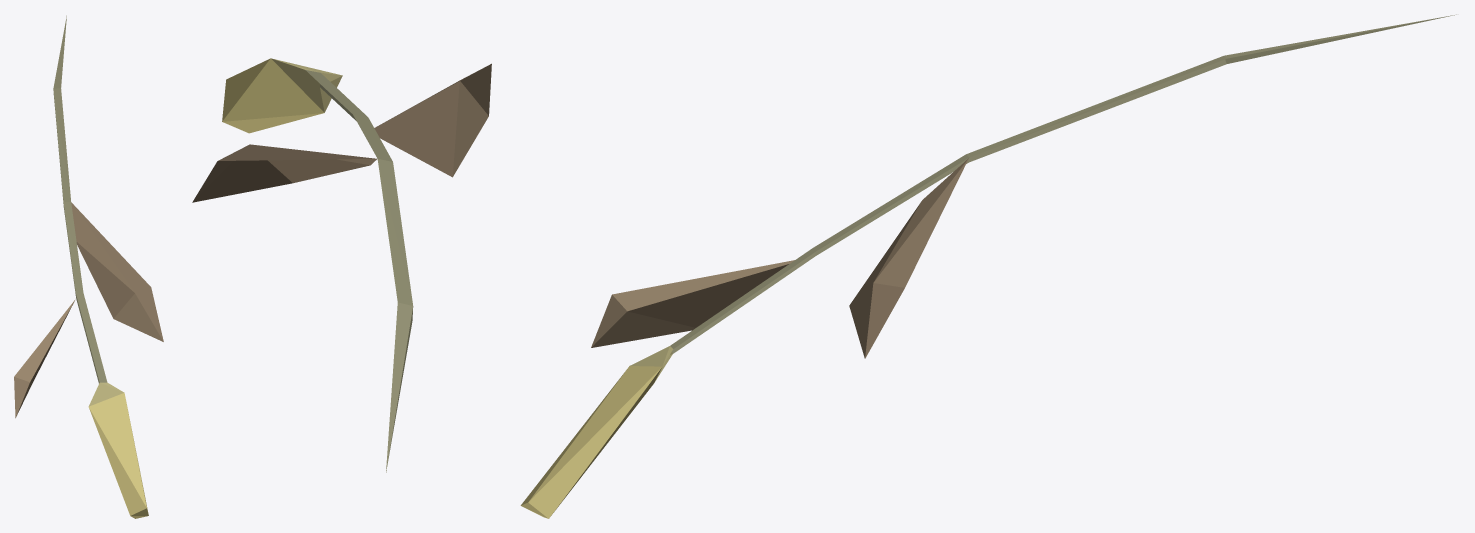
The model's file is miscGrain.glb.
3 views of the same model, side by side, from view 1: azimuth 30°, elevation 25°; view 2: azimuth 210°, elevation 25°; view 3: azimuth 330°, elevation 25° (orthographic). The views are drawn at different scales.
Visible parts, largest first — view 1: miscGrain; view 2: miscGrain; view 3: miscGrain.
Part boxes in pixels (x1=…): miscGrain: x1=14, y1=15, x2=163, y2=518; miscGrain: x1=192, y1=58, x2=491, y2=472; miscGrain: x1=520, y1=14, x2=1456, y2=518.
Bounding box in the file's own units: 0.059 × 0.0289 × 0.1133.
